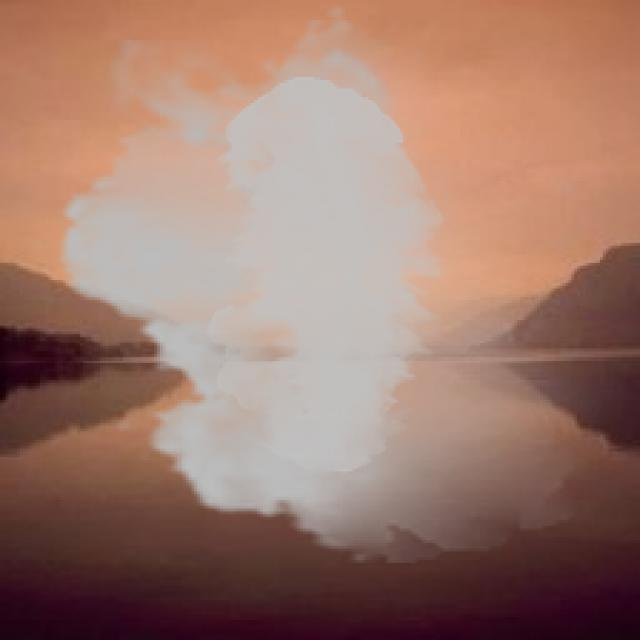smoke: (37, 3, 606, 563)
